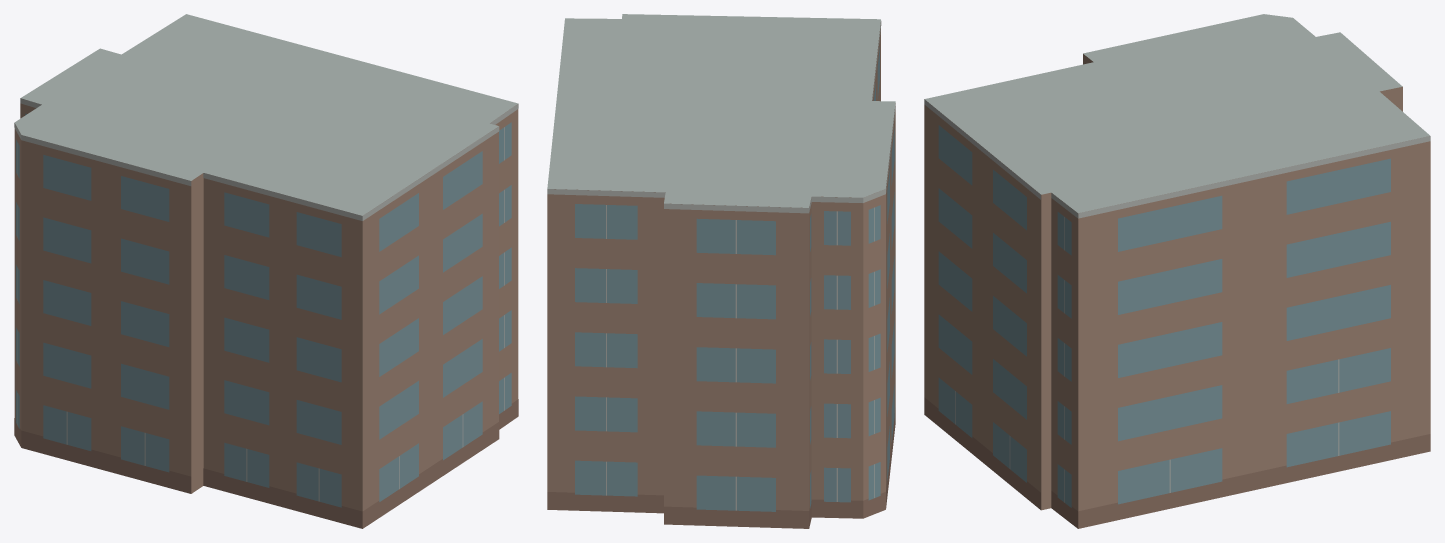
Rendered from survey-upis-32971266.glb.
The picture shows the model from 3 angles, left to right: view 1: azimuth 30°, elevation 25°; view 2: azimuth 150°, elevation 25°; view 3: azimuth 270°, elevation 25°; orthographic projection. The views are drawn at different scales.
Parts seen in each view (by area): view 1: survey-upis-32971266.tmp; view 2: survey-upis-32971266.tmp; view 3: survey-upis-32971266.tmp.
Boxes of the visible parts, x1,y1,x2,y2 form: survey-upis-32971266.tmp: (14,14,518,528); survey-upis-32971266.tmp: (547,14,895,528); survey-upis-32971266.tmp: (924,14,1430,528).
Size of the model in its own units: 19.54 by 14.43 by 20.97.
